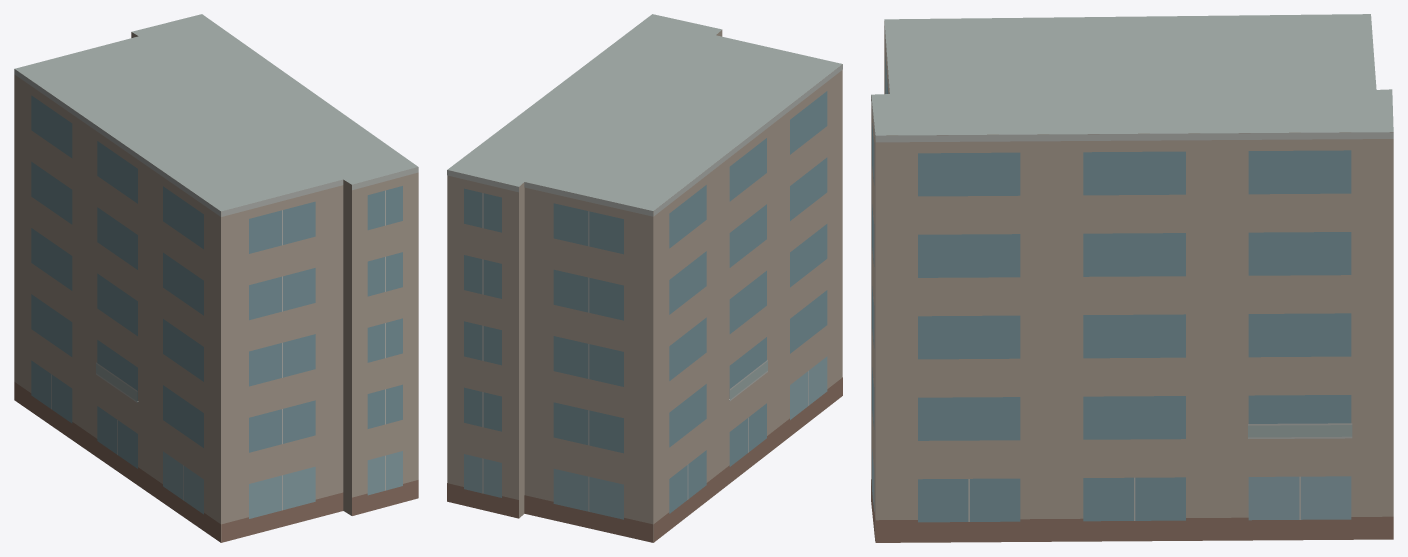
The model's file is survey-upis-32575818.glb.
3 renders of one model, left to right at view 1: azimuth 30°, elevation 25°; view 2: azimuth 150°, elevation 25°; view 3: azimuth 270°, elevation 25°, orthographic. The views are drawn at different scales.
Parts seen in each view (by area): view 1: survey-upis-32575818.tmp; view 2: survey-upis-32575818.tmp; view 3: survey-upis-32575818.tmp.
Boxes of the visible parts, box(x1,y1,x2,y2) form: survey-upis-32575818.tmp: box(14, 14, 418, 542); survey-upis-32575818.tmp: box(447, 14, 842, 542); survey-upis-32575818.tmp: box(871, 14, 1393, 542).
Bounding box in the file's own units: 9.29 × 14.5 × 16.86.
